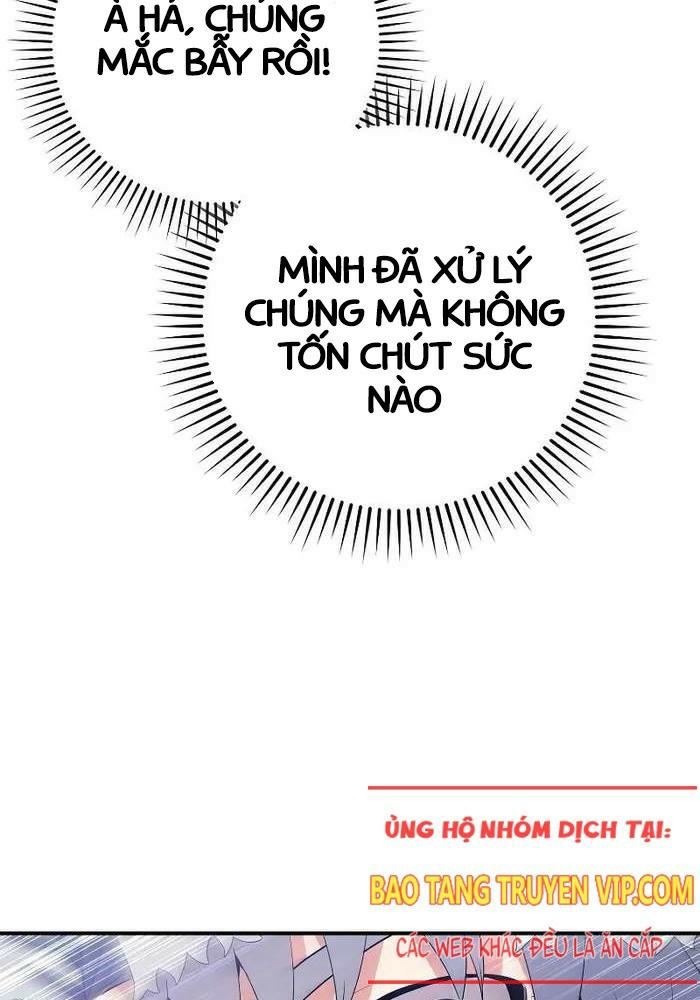quangcao: (368, 784, 700, 985)
